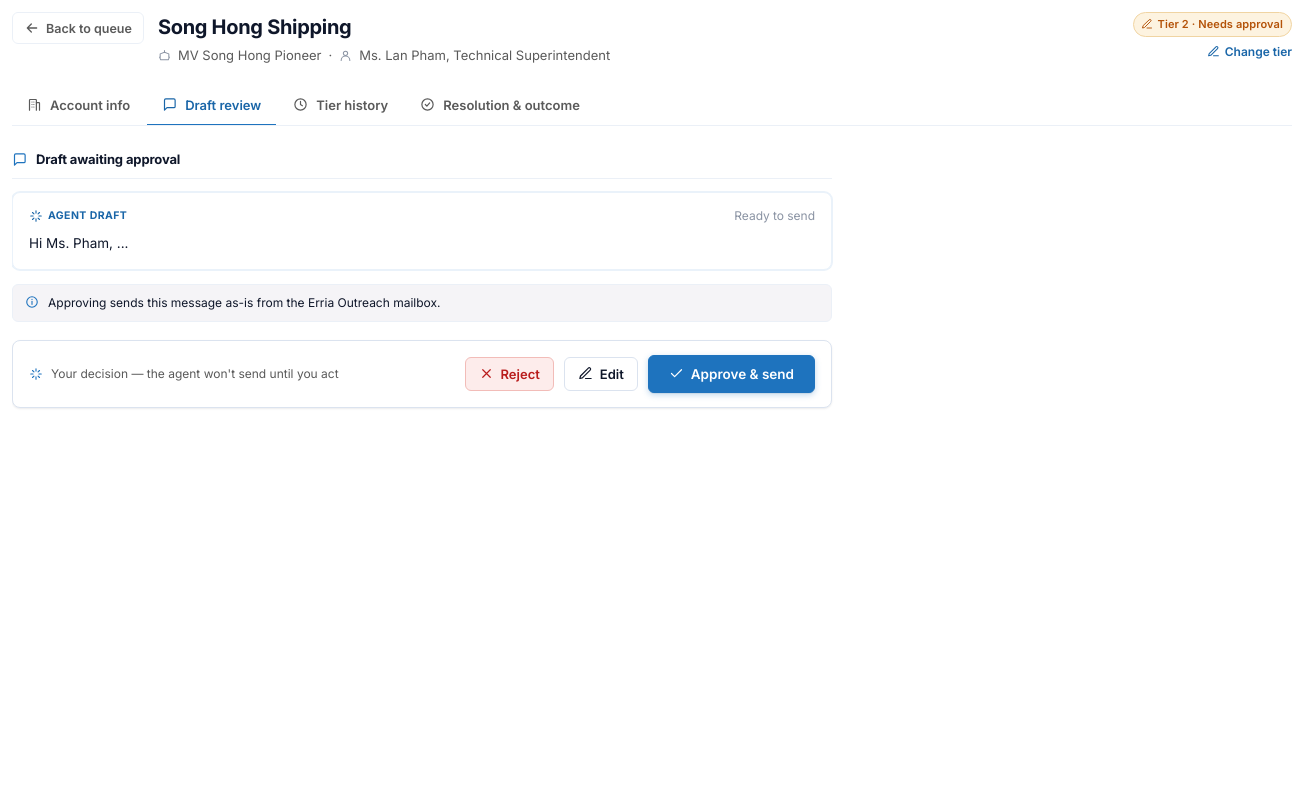
AccountDetailPage › opens the change-tier panel from the tier badge row
This screenshot has width=1304, height=812.
expect the heading "Song Hong Shipping" is shown: met, box [158, 15, 351, 39]
Click the button "Change tier" at [1249, 51], box [1207, 44, 1292, 58]
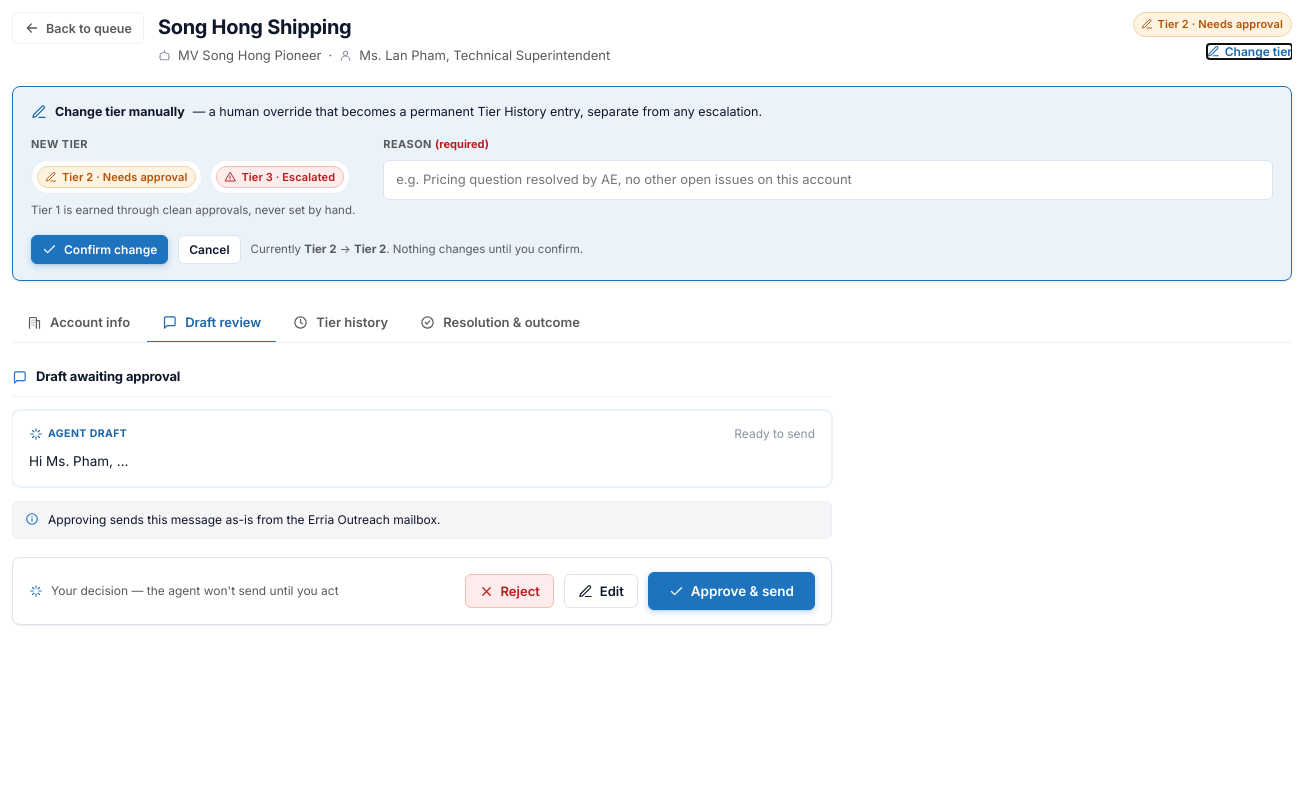
expect the text "Change tier manually" is shown: met, box [55, 102, 185, 121]
